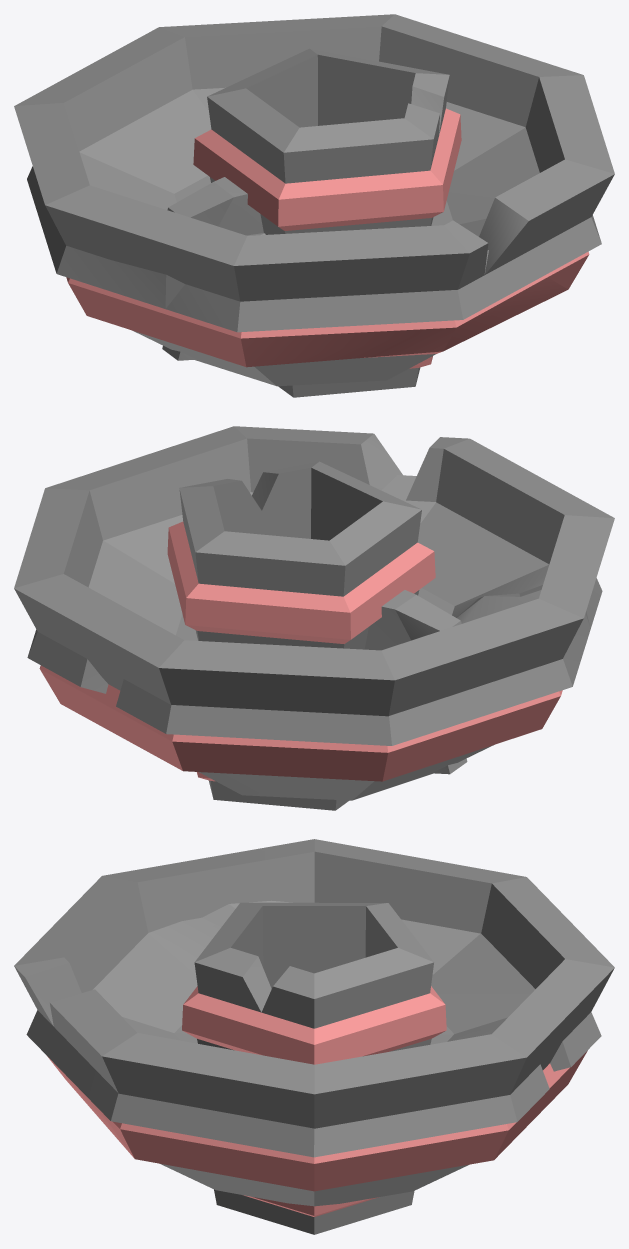
File: Bowl.fbx
The picture shows the model from 3 angles, top to bottom: view 1: azimuth 30°, elevation 25°; view 2: azimuth 150°, elevation 25°; view 3: azimuth 270°, elevation 25°; orthographic projection. The views are drawn at different scales.
Parts seen in each view (by area): view 1: SM_Bowl, SM_Jug, SM_Plate; view 2: SM_Bowl, SM_Jug, SM_Plate; view 3: SM_Bowl, SM_Jug, SM_Plate.
Part boxes in pixels (left/top/right/bottom): SM_Bowl: left=14, top=14, right=614, bottom=386; SM_Jug: left=162, top=48, right=461, bottom=397; SM_Plate: left=27, top=87, right=601, bottom=332; SM_Bowl: left=14, top=426, right=614, bottom=800; SM_Jug: left=167, top=461, right=467, bottom=810; SM_Plate: left=27, top=475, right=602, bottom=745; SM_Bowl: left=14, top=839, right=614, bottom=1206; SM_Jug: left=182, top=902, right=446, bottom=1234; SM_Plate: left=26, top=900, right=601, bottom=1157.
Size of the model in its own units: 97.82 by 45.86 by 97.82.
